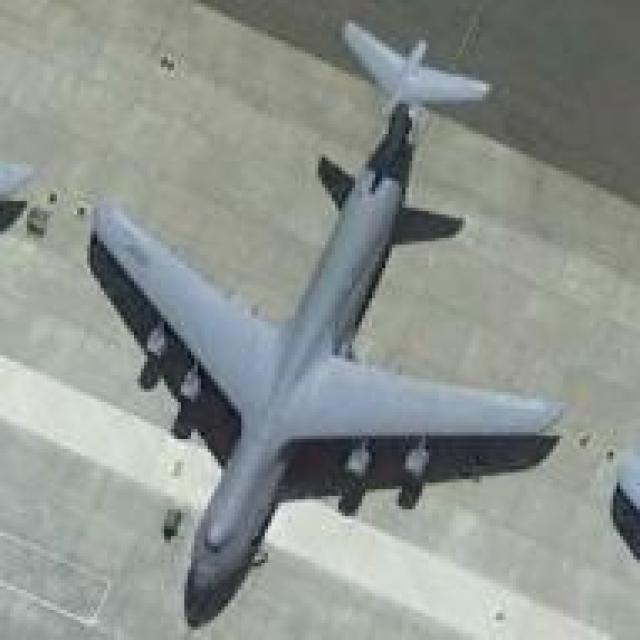C-5_TopDown: (77, 16, 566, 626)
